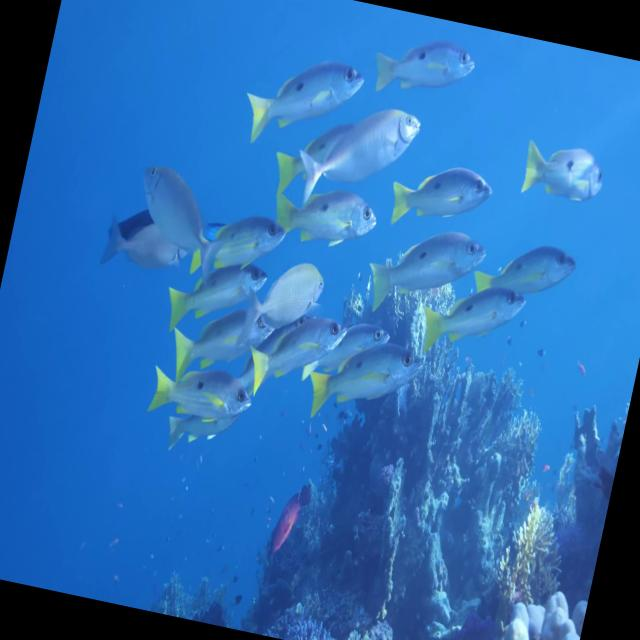fish: (284, 90, 434, 226), (231, 43, 379, 166), (355, 210, 490, 332), (148, 230, 294, 342), (300, 326, 432, 432), (150, 294, 278, 400), (374, 142, 502, 247), (238, 287, 354, 398), (127, 146, 236, 260), (456, 225, 578, 326), (414, 271, 532, 374), (262, 168, 389, 258), (368, 18, 478, 113), (142, 353, 266, 432), (514, 128, 618, 222), (246, 242, 333, 340), (89, 208, 192, 286), (191, 201, 289, 276)
